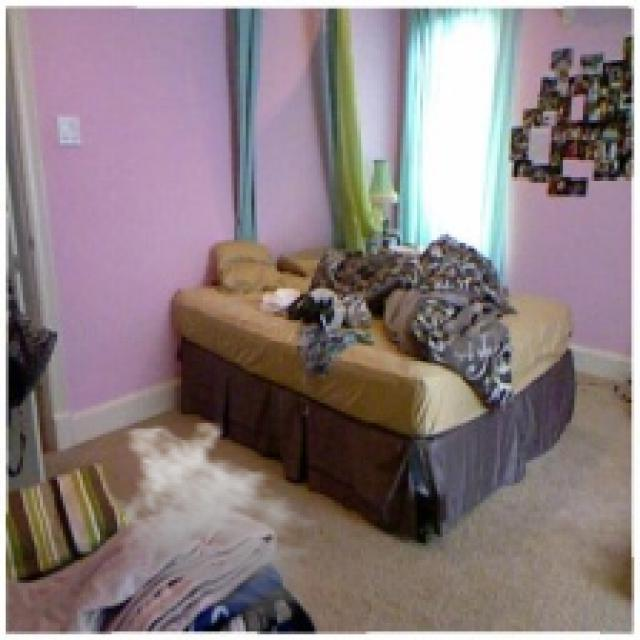Smoke: (114, 420, 329, 623)
